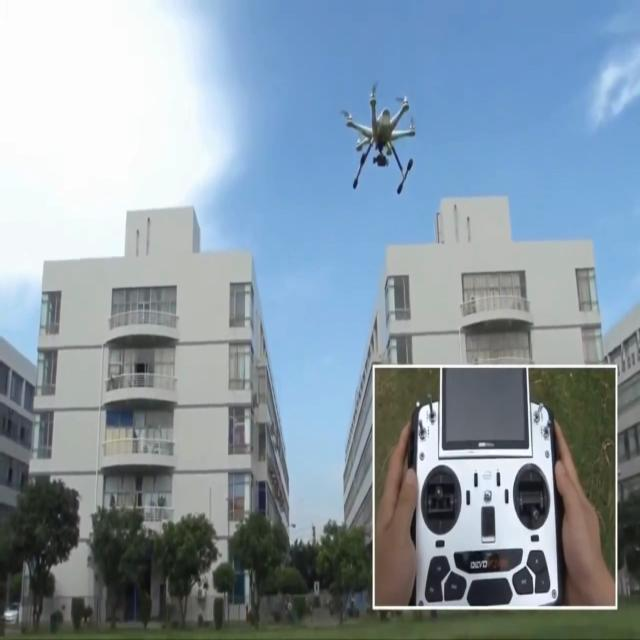drone: (339, 80, 416, 194)
